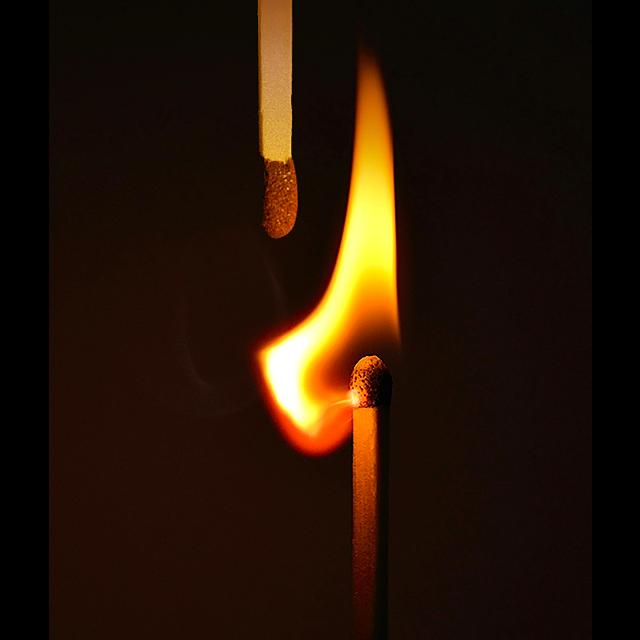fire: (256, 53, 399, 640), (259, 0, 289, 150), (264, 153, 296, 238)
